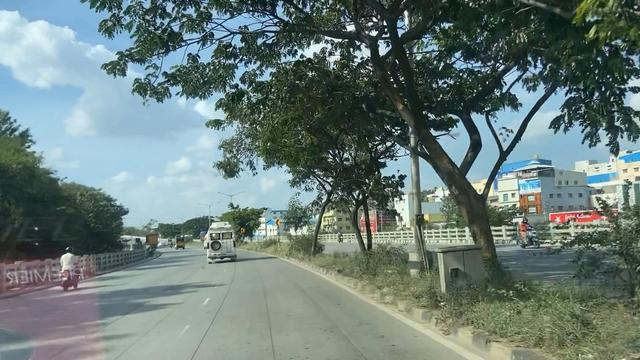HMV: (199, 217, 239, 261)
LMV: (58, 244, 80, 285)
